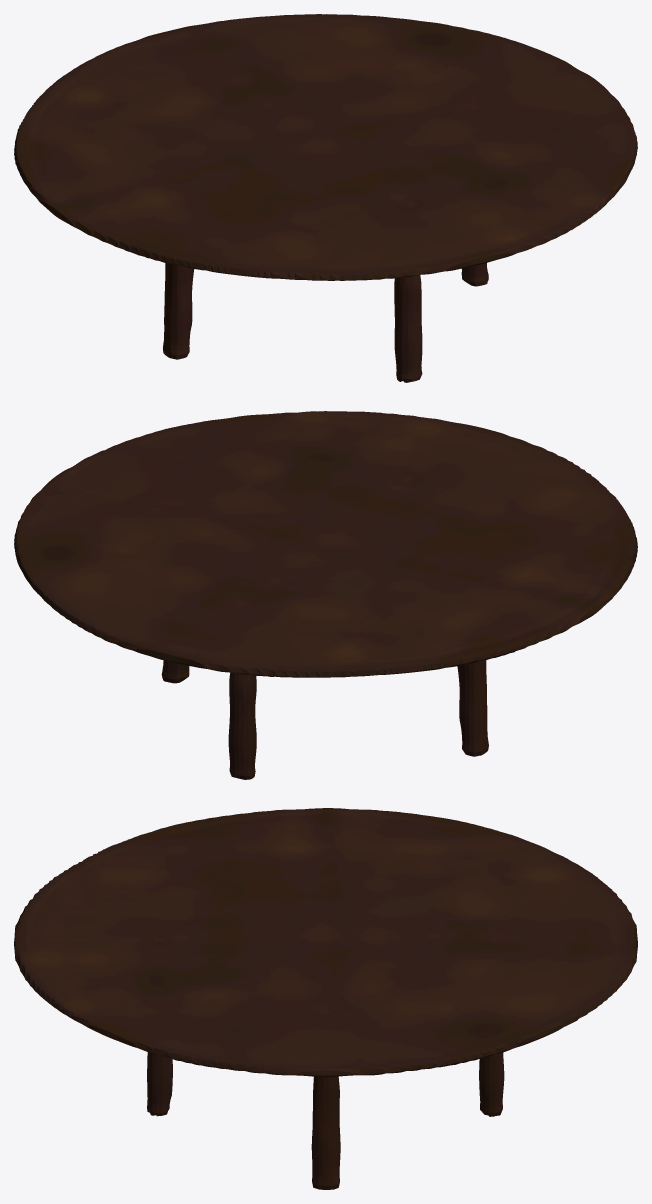
File: table_top.glb
The picture shows the model from 3 angles, top to bottom: view 1: azimuth 30°, elevation 25°; view 2: azimuth 150°, elevation 25°; view 3: azimuth 270°, elevation 25°; orthographic projection.
Visible parts, largest first — view 1: tmp5cq4b159.ply; view 2: tmp5cq4b159.ply; view 3: tmp5cq4b159.ply.
Boxes of the visible parts, bbox=[...] form: tmp5cq4b159.ply: bbox=[14, 14, 637, 382]; tmp5cq4b159.ply: bbox=[14, 411, 637, 779]; tmp5cq4b159.ply: bbox=[14, 808, 637, 1189].
Size of the model in its own units: 1.98 by 0.6117 by 1.98.
